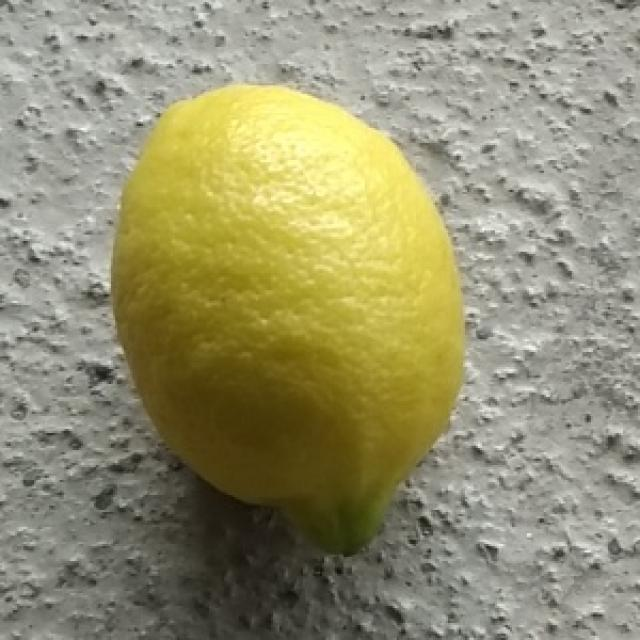Lemon: (110, 80, 470, 558)
